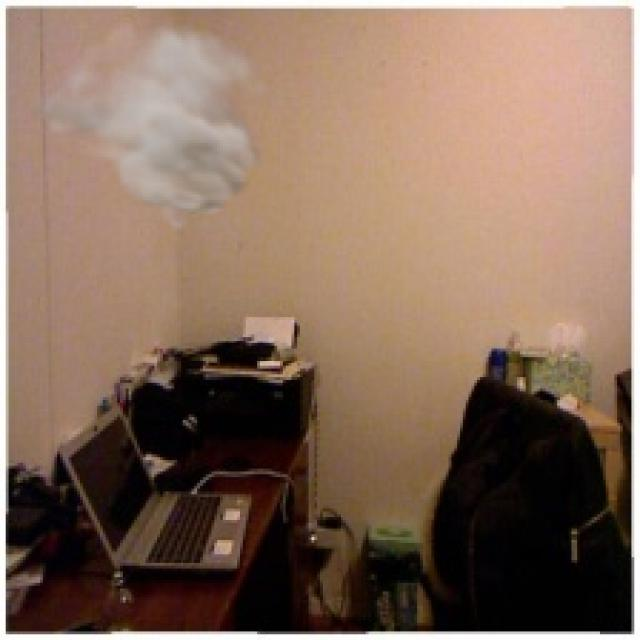smoke: (20, 14, 286, 234)
